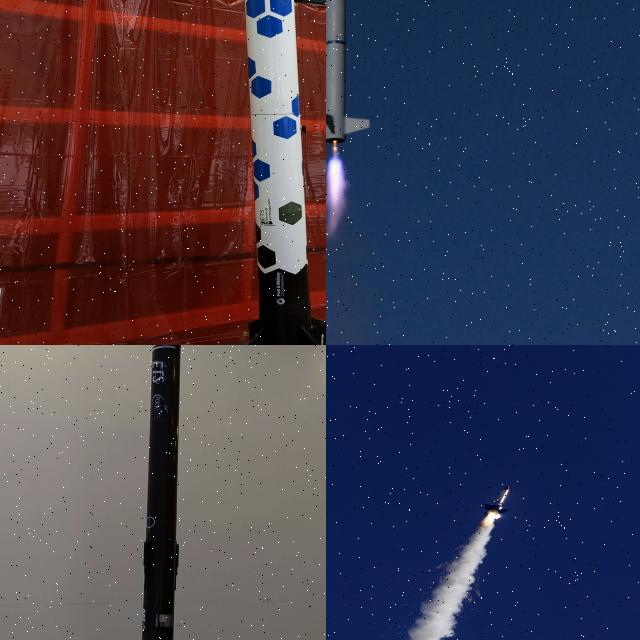Rocket: (244, 0, 326, 345), (142, 345, 181, 640), (326, 0, 372, 145), (483, 485, 511, 517)
